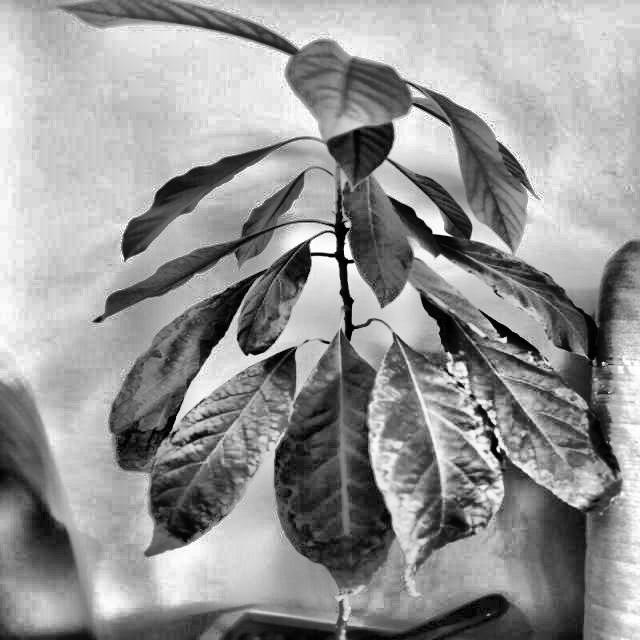plants: (64, 0, 640, 639), (117, 284, 309, 562), (356, 315, 504, 602)
